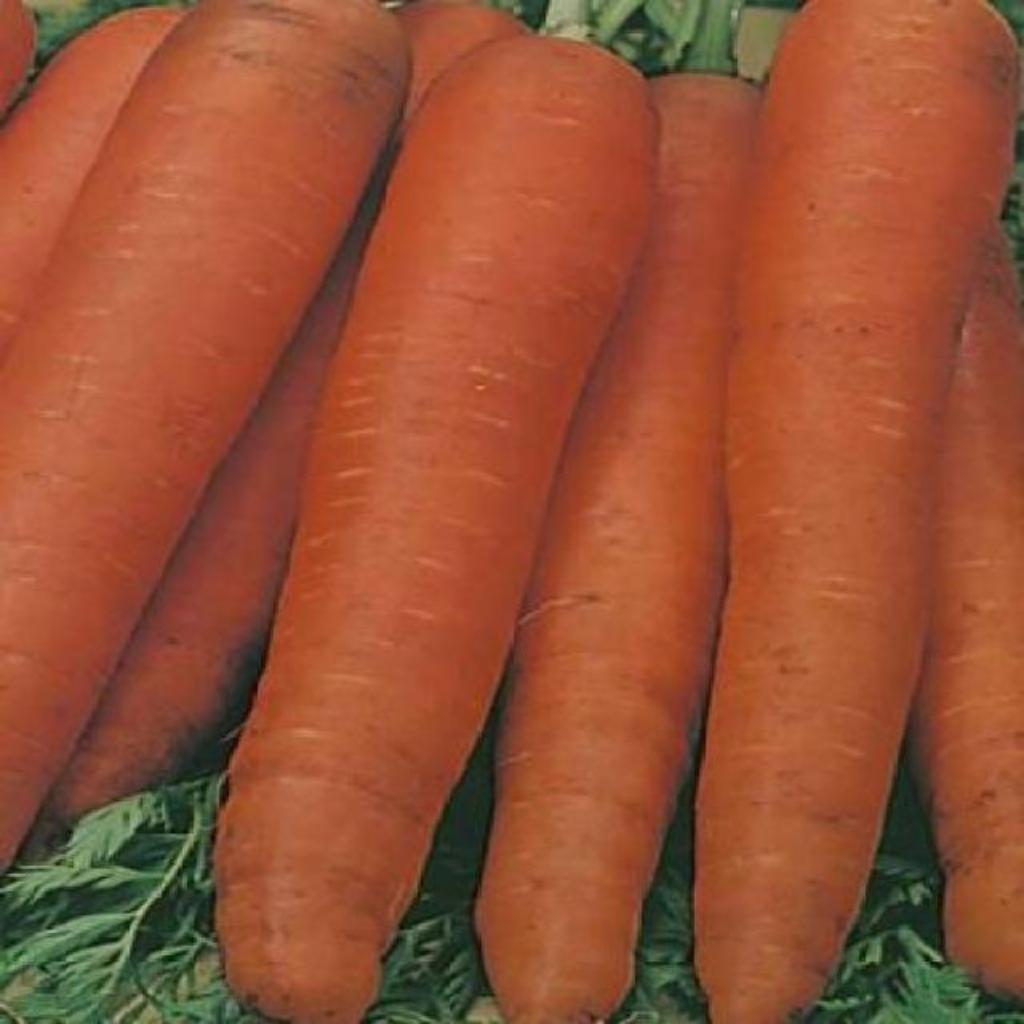carrot: (216, 0, 656, 1024), (0, 0, 406, 865), (696, 0, 1014, 1024), (476, 74, 760, 1024), (36, 224, 367, 837), (912, 228, 1024, 995), (0, 8, 183, 357)
